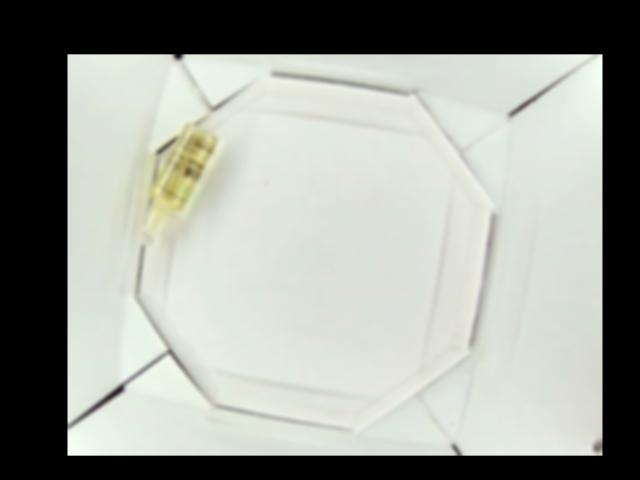Bottle: (141, 124, 219, 245)
